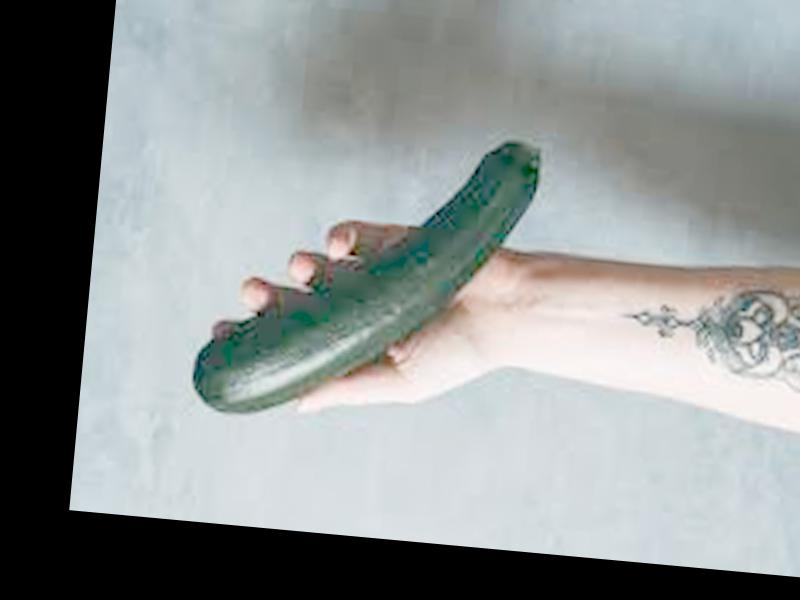Cucumber: (189, 114, 540, 438)
